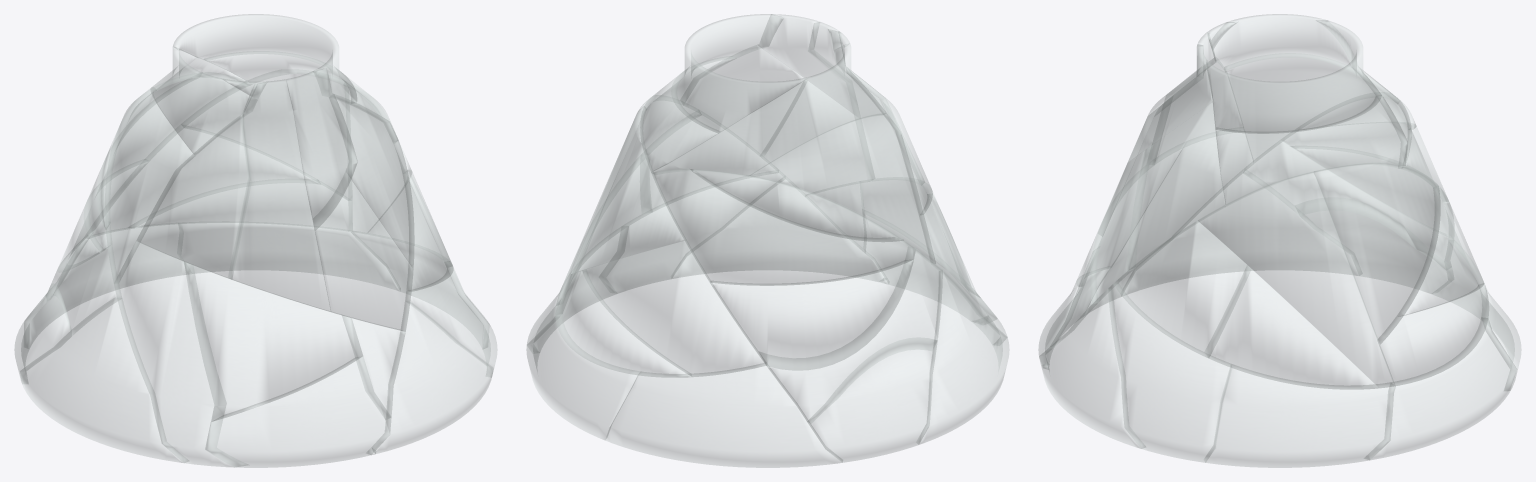
Rendered from fracture-solids.glb.
3 renders of one model, left to right at view 1: azimuth 30°, elevation 25°; view 2: azimuth 150°, elevation 25°; view 3: azimuth 270°, elevation 25°, orthographic.
Parts seen in each view (by area): view 1: fragment-016, fragment-005, fragment-023, fragment-006, fragment-017, fragment-022, fragment-003, fragment-020, fragment-012, fragment-014, fragment-010, fragment-018 (+18 smaller); view 2: fragment-009, fragment-028, fragment-018, fragment-008, fragment-014, fragment-030, fragment-015, fragment-012, fragment-031, fragment-006, fragment-024, fragment-013 (+18 smaller); view 3: fragment-007, fragment-004, fragment-003, fragment-013, fragment-006, fragment-026, fragment-025, fragment-027, fragment-010, fragment-024, fragment-021, fragment-014 (+18 smaller).
Boxes of the visible parts, <box> form: fragment-016: <box>184,262,362,421</box>; fragment-005: <box>114,241,247,467</box>; fragment-023: <box>228,79,330,311</box>; fragment-006: <box>20,296,188,462</box>; fragment-017: <box>205,356,391,467</box>; fragment-022: <box>136,84,257,279</box>; fragment-003: <box>184,70,348,200</box>; fragment-020: <box>313,172,413,331</box>; fragment-012: <box>372,301,493,453</box>; fragment-014: <box>105,87,194,282</box>; fragment-010: <box>181,223,399,290</box>; fragment-018: <box>89,128,319,238</box>; fragment-009: <box>605,363,842,467</box>; fragment-028: <box>652,169,915,285</box>; fragment-018: <box>582,241,765,376</box>; fragment-008: <box>710,260,913,370</box>; fragment-014: <box>749,113,935,263</box>; fragment-030: <box>807,337,937,462</box>; fragment-015: <box>652,44,885,176</box>; fragment-012: <box>672,179,884,281</box>; fragment-031: <box>759,247,942,423</box>; fragment-006: <box>916,271,1009,444</box>; fragment-024: <box>671,14,807,133</box>; fragment-013: <box>606,173,784,292</box>; fragment-007: <box>1198,171,1394,387</box>; fragment-004: <box>1204,364,1395,467</box>; fragment-003: <box>1314,162,1440,344</box>; fragment-013: <box>1108,283,1232,462</box>; fragment-006: <box>1125,173,1358,294</box>; fragment-026: <box>1113,221,1250,357</box>; fragment-025: <box>1216,96,1407,205</box>; fragment-027: <box>1205,266,1378,389</box>; fragment-010: <box>1364,318,1516,459</box>; fragment-024: <box>1206,20,1381,133</box>; fragment-021: <box>1126,102,1225,271</box>; fragment-014: <box>1224,53,1399,162</box>.
Size of the model in its own units: 0.22 by 0.16 by 0.22.
1 material, 1 textured.
